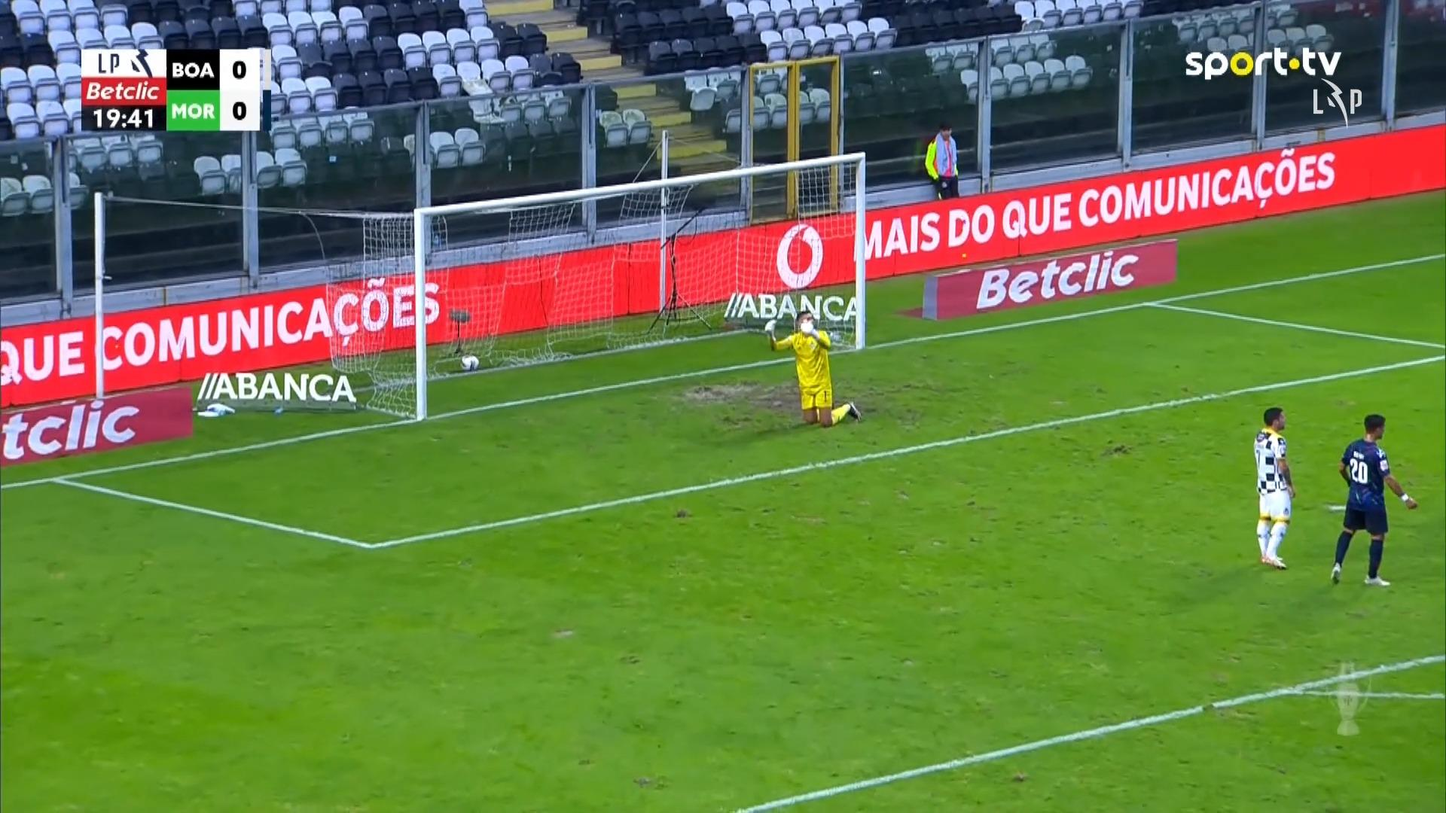ball: (460, 354, 478, 371)
goalkeeper: (764, 309, 862, 428)
player: (1329, 413, 1417, 586), (1252, 406, 1296, 569)
